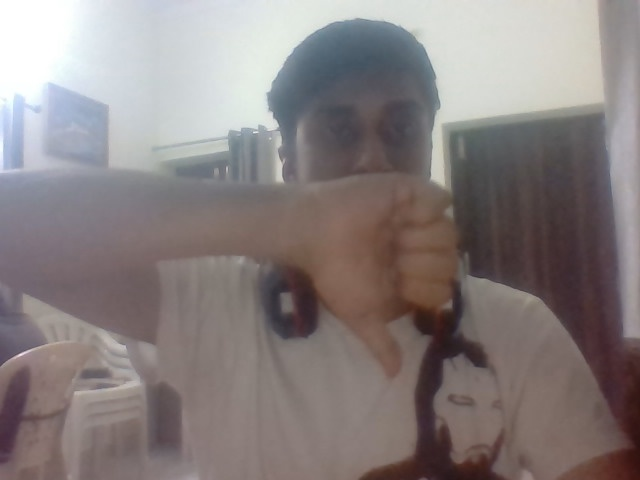ThumbsDown: (305, 171, 459, 378)
